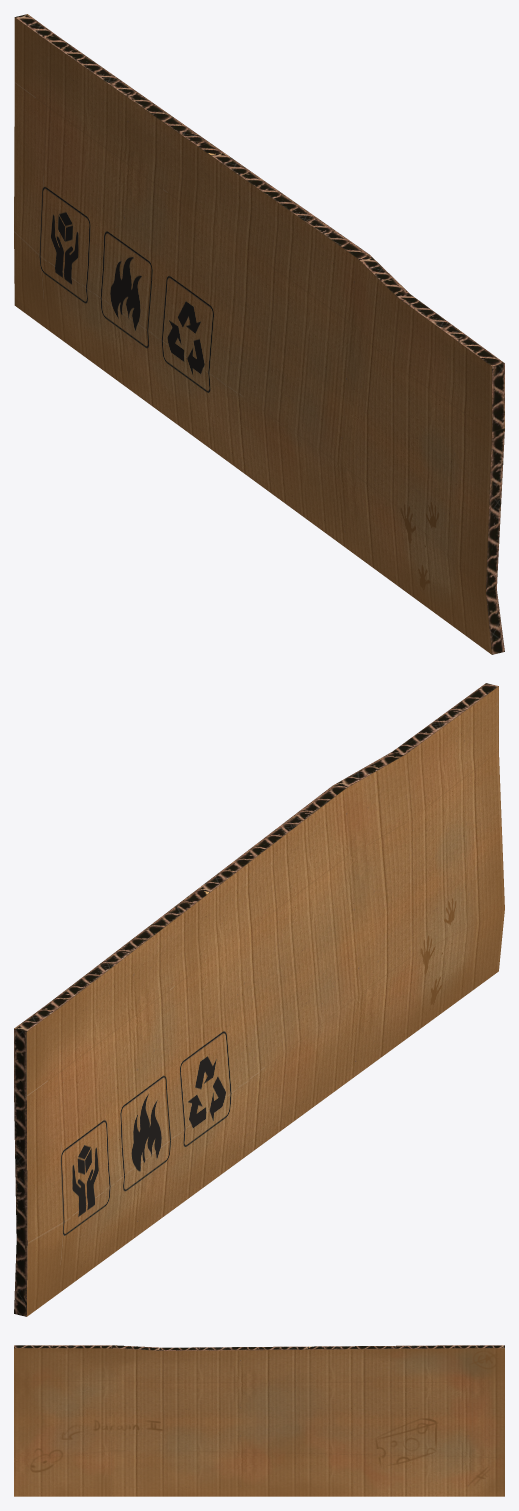
The model's file is Carton_3.fbx.
The picture shows the model from 3 angles, top to bottom: view 1: azimuth 30°, elevation 25°; view 2: azimuth 150°, elevation 25°; view 3: azimuth 270°, elevation 25°; orthographic projection. The views are drawn at different scales.
Visible parts, largest first — view 1: Pared_1x3_0; view 2: Pared_1x3_0; view 3: Pared_1x3_0.
Boxes of the visible parts, box(x1,y1,x2,y2) form: Pared_1x3_0: box(14, 14, 504, 654); Pared_1x3_0: box(14, 683, 504, 1316); Pared_1x3_0: box(14, 1345, 504, 1496).
Size of the model in its own units: 1.06 by 10 by 30.
1 material, 1 textured.
